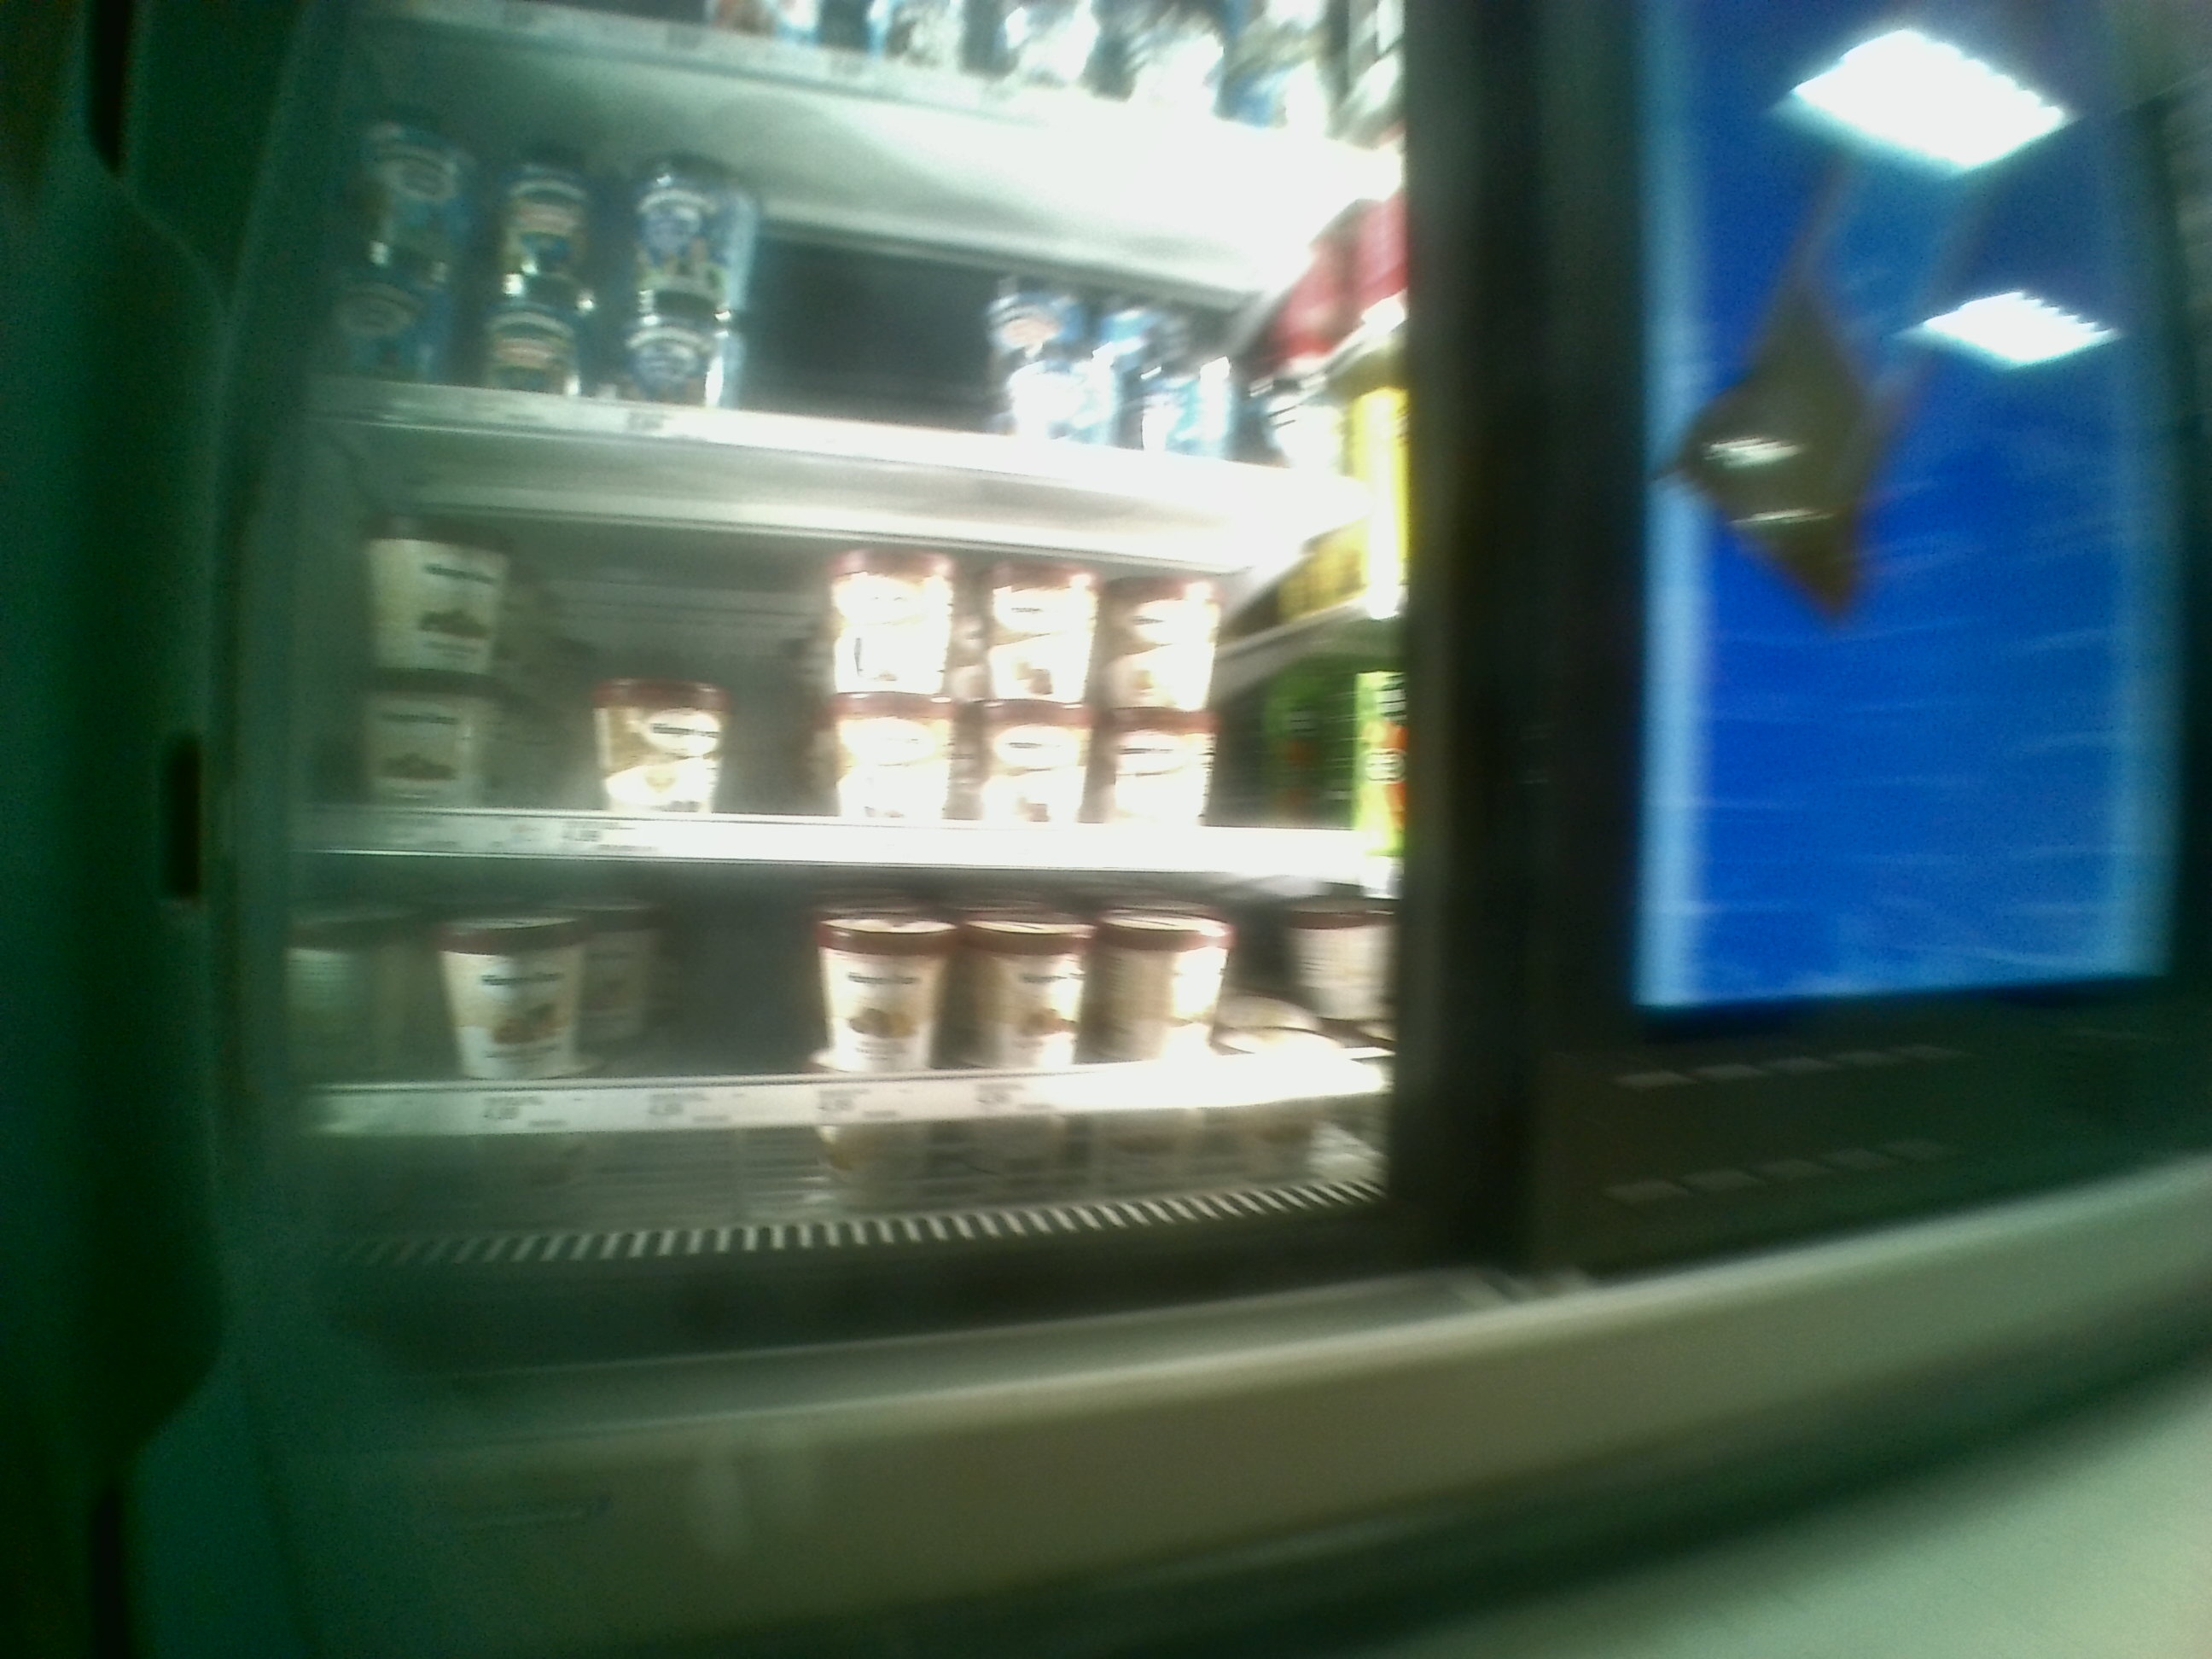shelf: (275, 404, 1416, 863), (273, 863, 1404, 1215)
